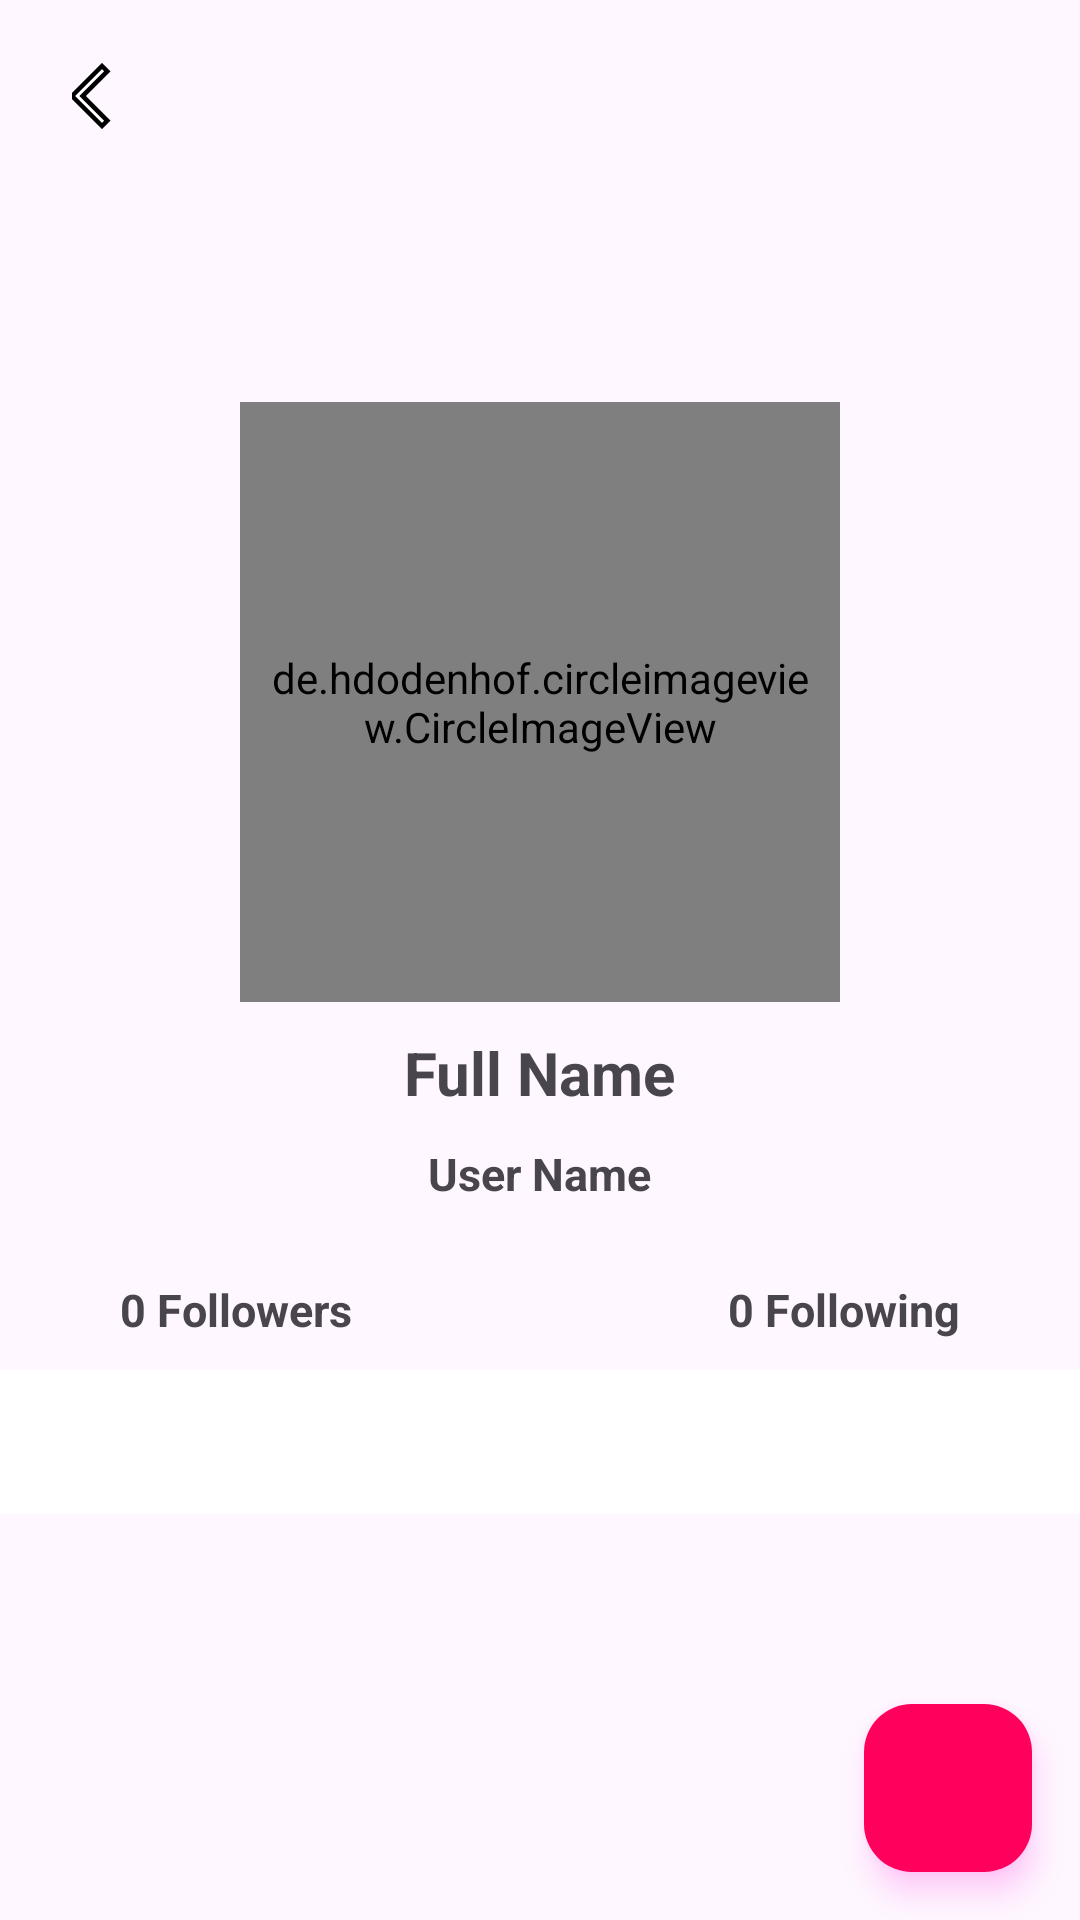

Point at icon controls on the screen. Image size 1080px×1920px, points as [x,y].
arrow back: [91,96]
